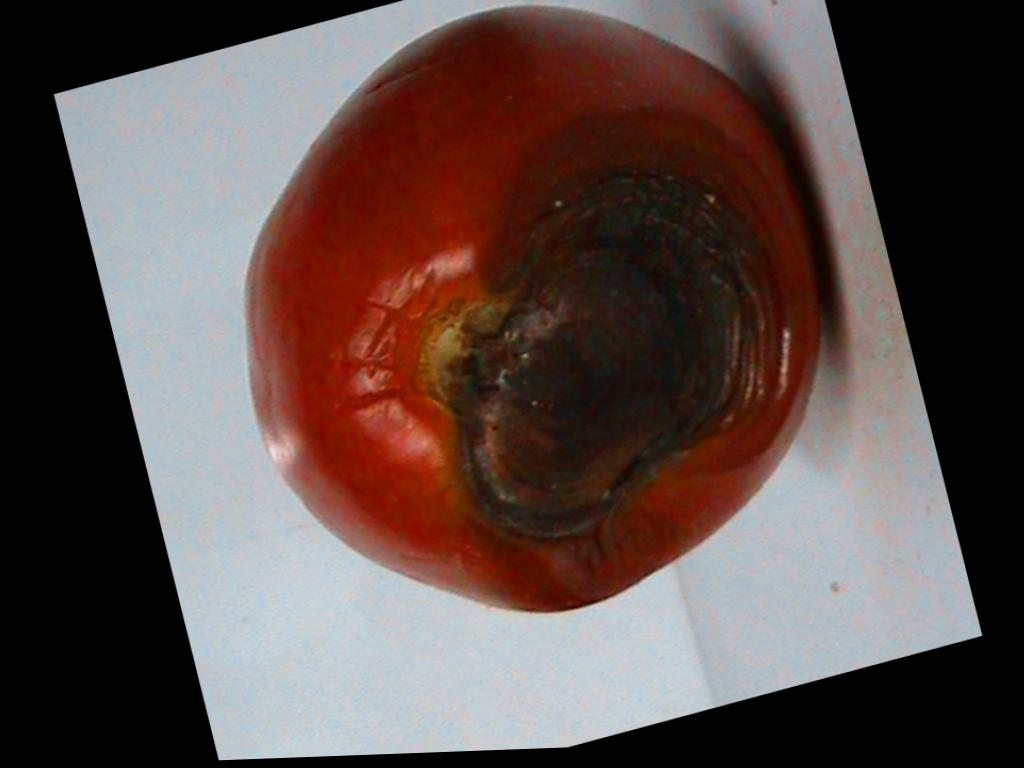rot_mold_decay: (428, 117, 780, 537)
tomato: (246, 7, 815, 611)
